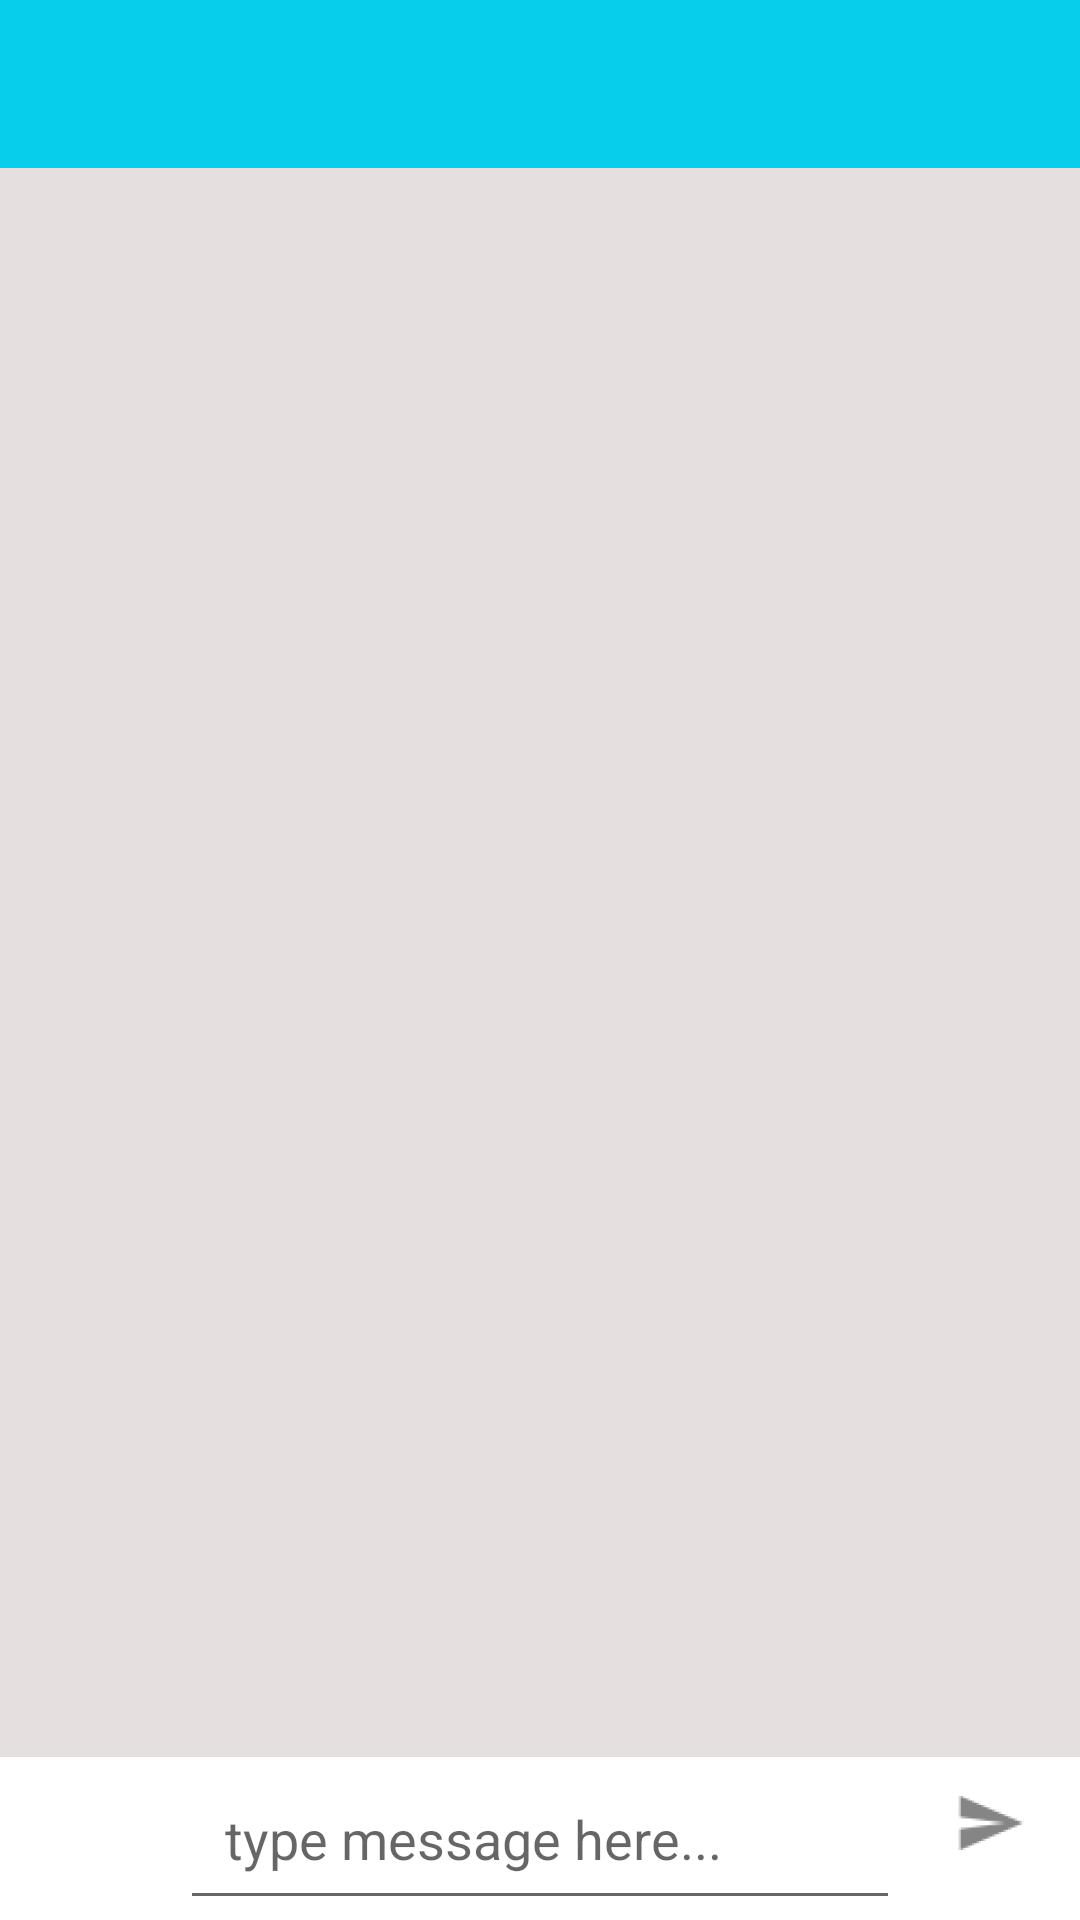

Where icons sit on this 1080*1920 app screen, as (x1, y1, x2, y2):
send message: (959, 1796, 1022, 1850)
